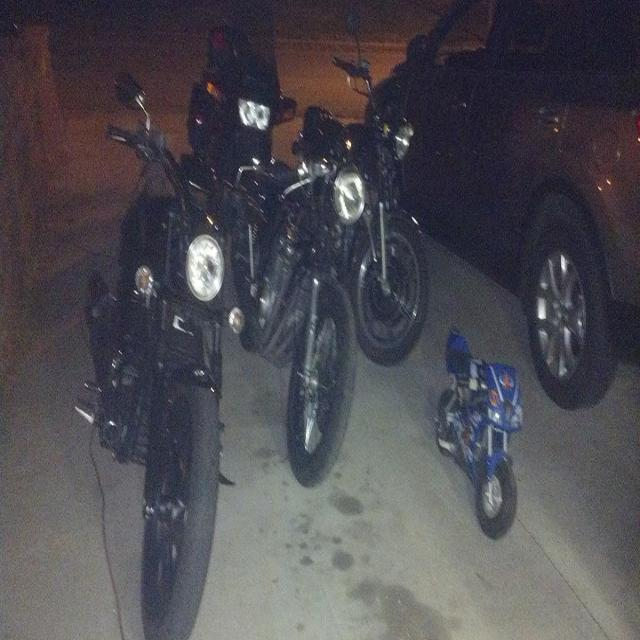Motorbike: (201, 37, 412, 454), (110, 99, 238, 640), (414, 314, 554, 506)
